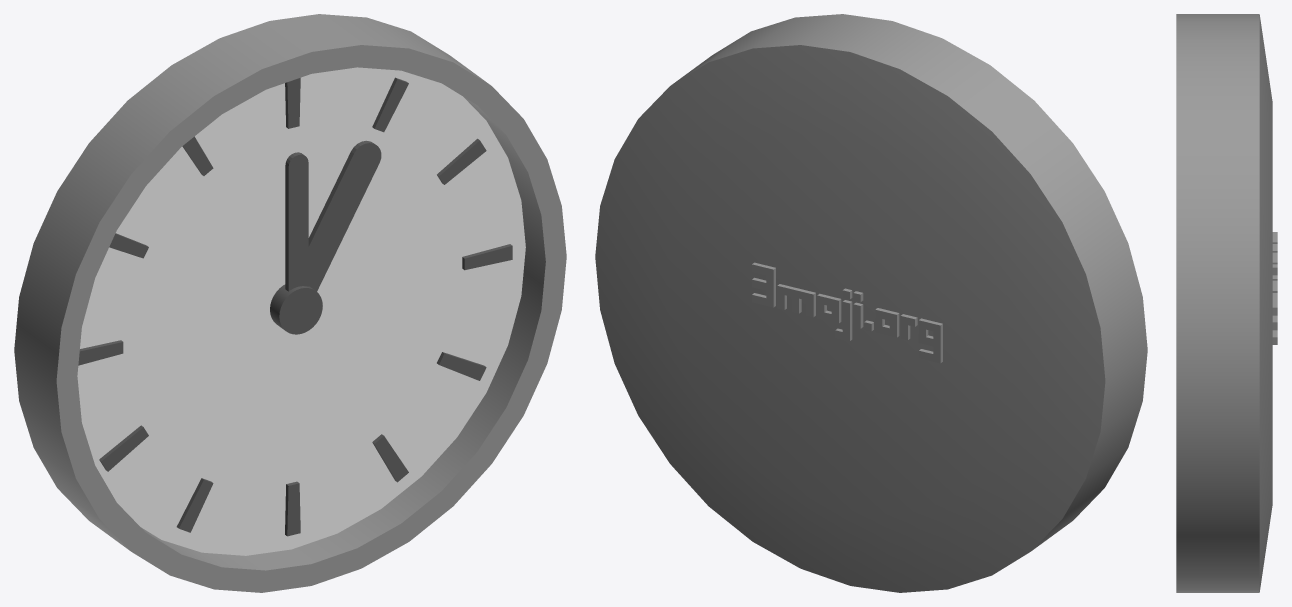
Rendered from one_oclock.gltf.
The picture shows the model from 3 angles, left to right: view 1: azimuth 30°, elevation 25°; view 2: azimuth 150°, elevation 25°; view 3: azimuth 270°, elevation 25°; orthographic projection.
Parts seen in each view (by area): view 1: Circle.2435; view 2: Circle.2435; view 3: Circle.2435.
Part boxes in pixels (bbox=[...]): Circle.2435: bbox=[14, 14, 566, 592]; Circle.2435: bbox=[595, 14, 1147, 592]; Circle.2435: bbox=[1176, 14, 1277, 592].
Bounding box in the file's own units: 2.33 × 2.33 × 0.4069.
1 material, 1 textured.
